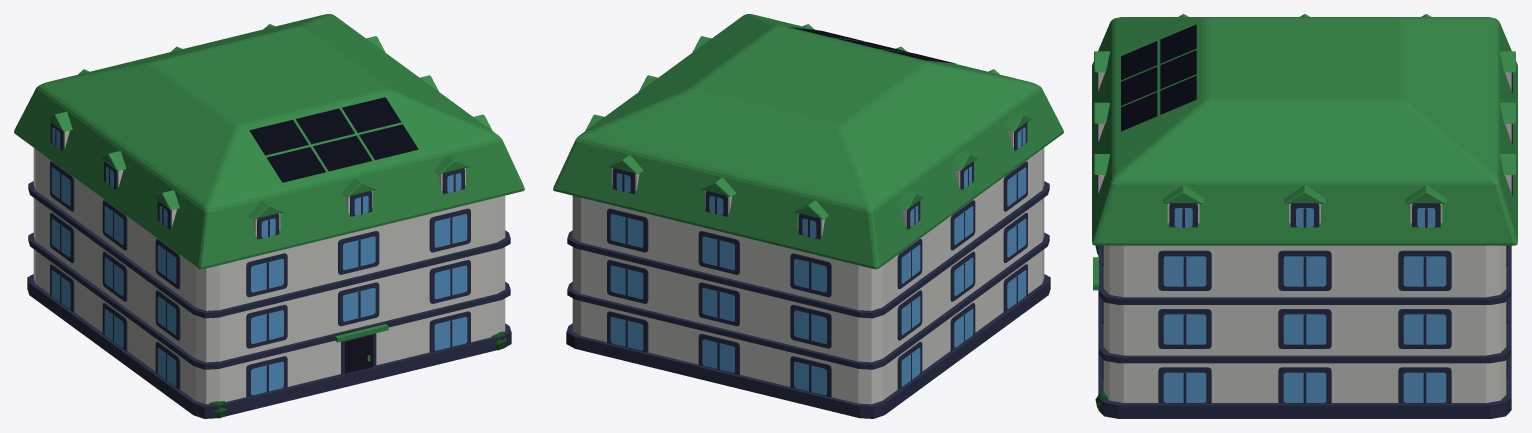
The model's file is house-2x2-3f-mansard-a-solar.glb.
The picture shows the model from 3 angles, left to right: view 1: azimuth 30°, elevation 25°; view 2: azimuth 150°, elevation 25°; view 3: azimuth 270°, elevation 25°; orthographic projection. The views are drawn at different scales.
Parts seen in each view (by area): view 1: house-2x2-3f-mansard-a-solar; view 2: house-2x2-3f-mansard-a-solar; view 3: house-2x2-3f-mansard-a-solar.
Part boxes in pixels (x1,y1,x2,y2): house-2x2-3f-mansard-a-solar: (14,14,524,418); house-2x2-3f-mansard-a-solar: (553,14,1063,418); house-2x2-3f-mansard-a-solar: (1092,14,1517,418).
Bounding box in the file's own units: 1.99 × 1.41 × 1.99.
Materials: 1 (1 with a texture image).
